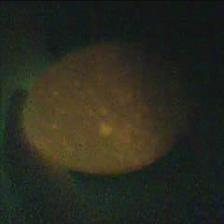fertile: (18, 40, 191, 176)
